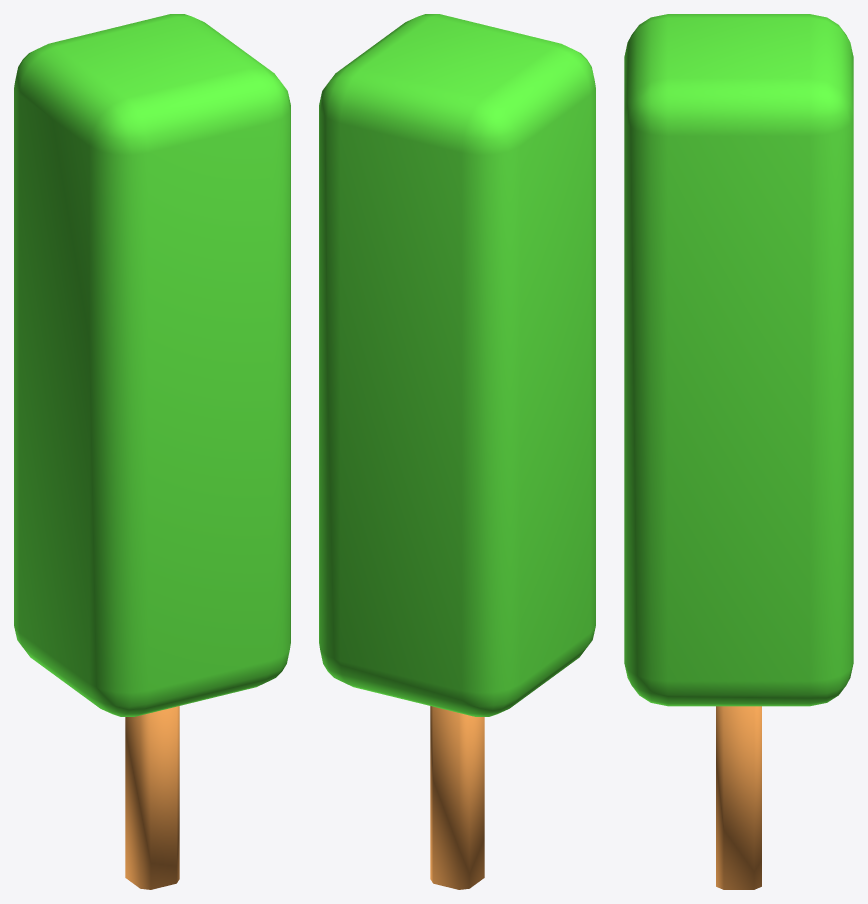
File: treeBig.glb
3 views of the same model, side by side, from view 1: azimuth 30°, elevation 25°; view 2: azimuth 150°, elevation 25°; view 3: azimuth 270°, elevation 25° (orthographic).
Visible parts, largest first — view 1: Cube, Cube.039; view 2: Cube, Cube.039; view 3: Cube, Cube.039.
Part boxes in pixels (<box>): Cube: <box>14,14,290,716</box>; Cube.039: <box>125,706,179,889</box>; Cube: <box>319,14,595,716</box>; Cube.039: <box>430,706,484,889</box>; Cube: <box>624,14,853,706</box>; Cube.039: <box>716,706,761,889</box>.
Bounding box in the file's own units: 2 × 8 × 2.
Materials: 1 (1 with a texture image).
